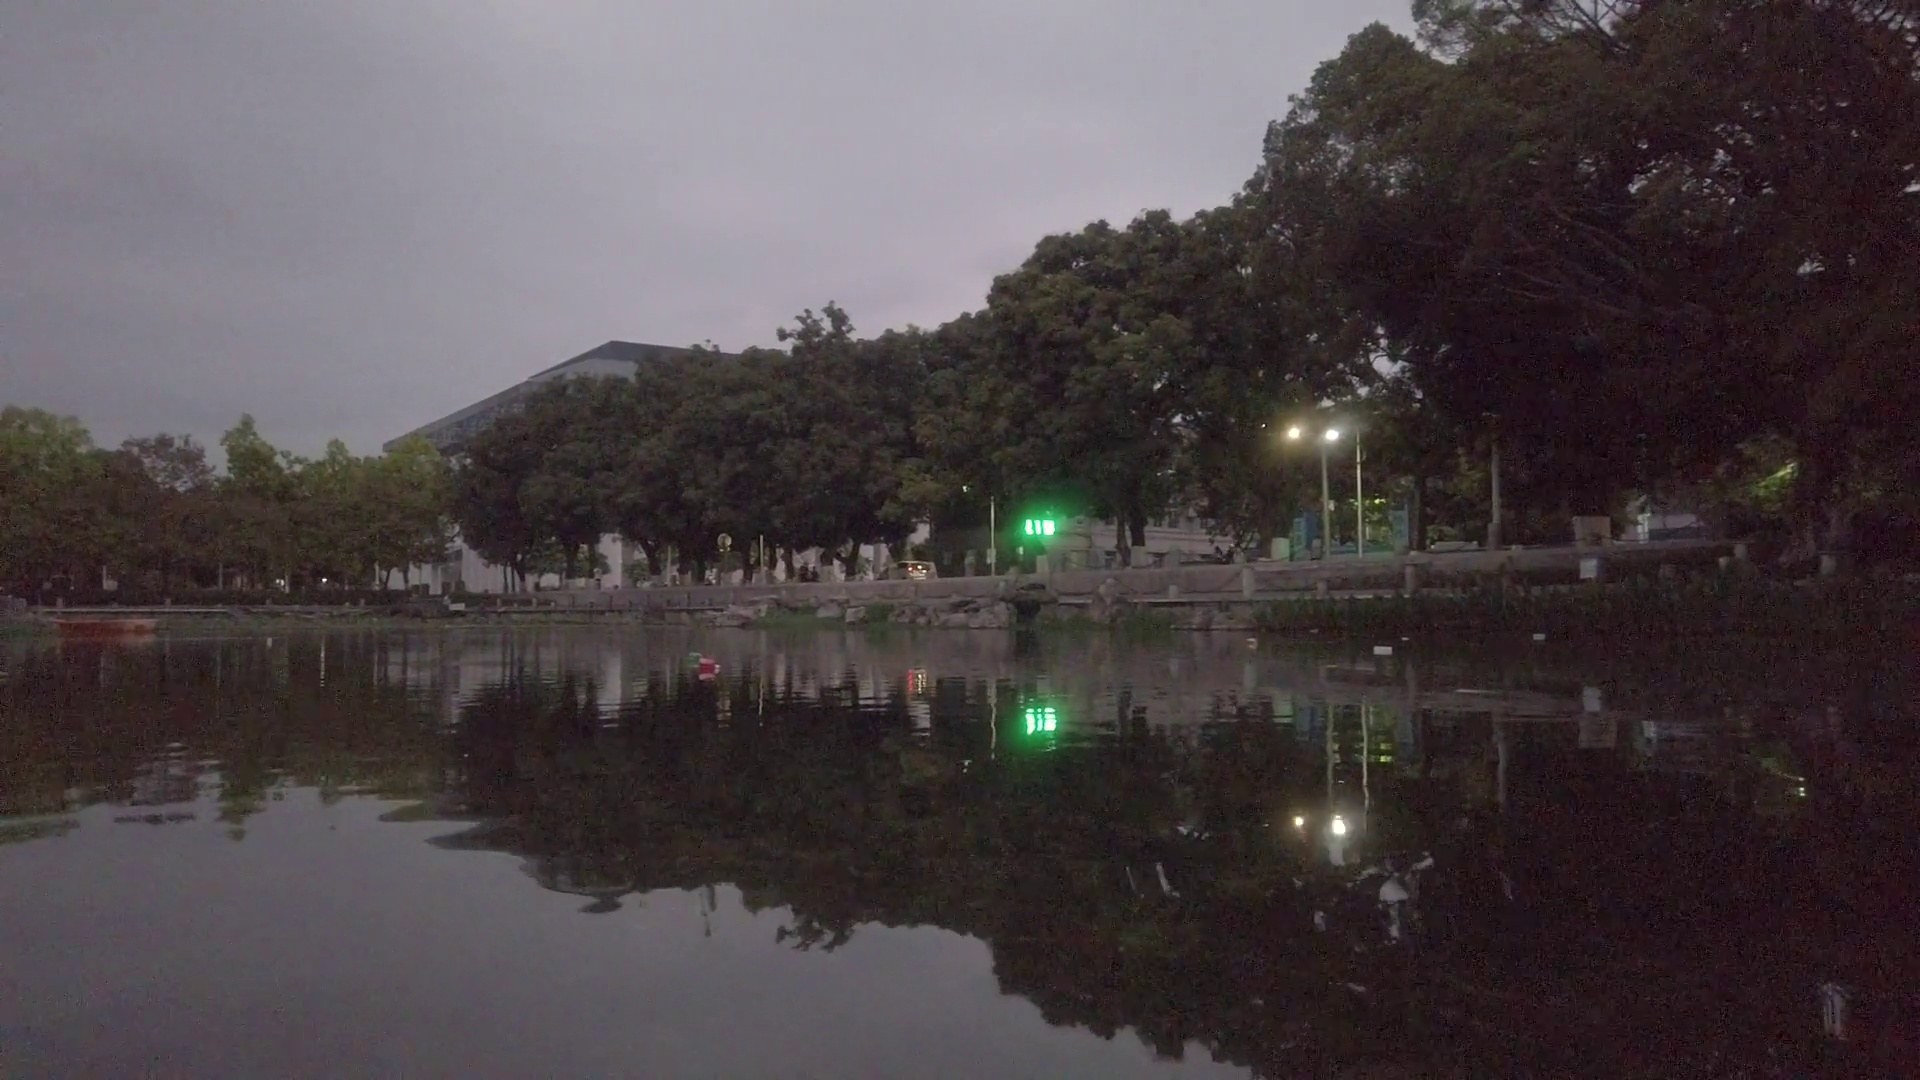bottle: (698, 659, 724, 674), (1247, 636, 1261, 647), (690, 651, 704, 662)
carton: (1374, 644, 1395, 655), (1532, 633, 1547, 642)
